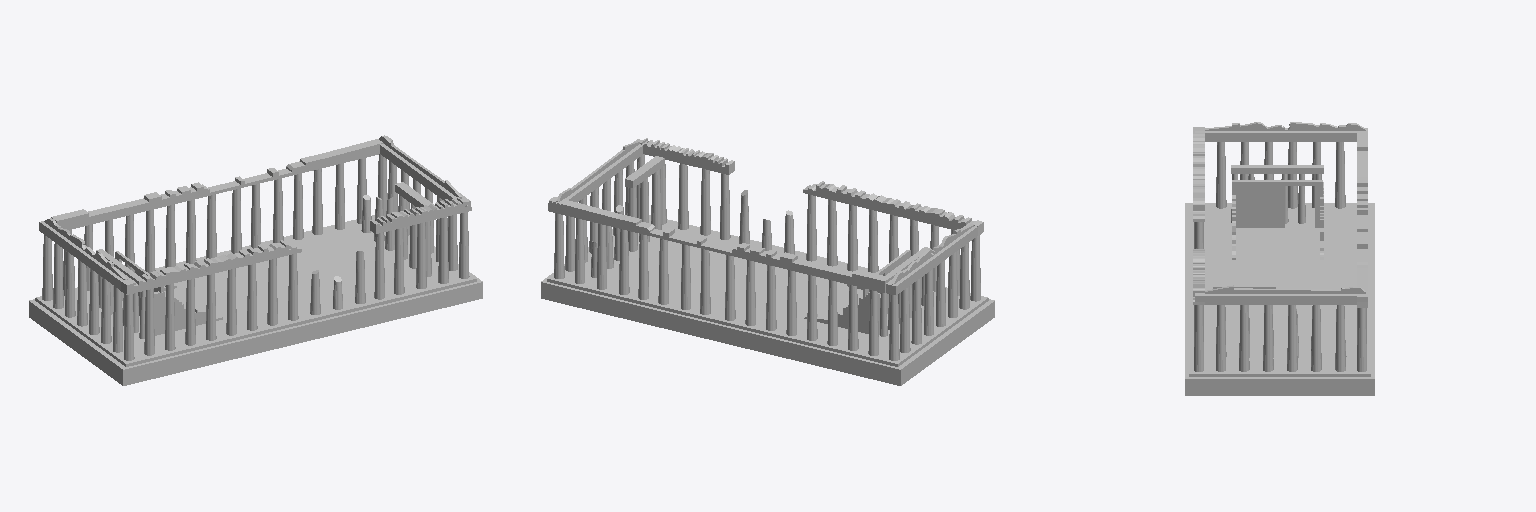
The model's file is acropolis.obj.
3 renders of one model, left to right at view 1: azimuth 30°, elevation 25°; view 2: azimuth 150°, elevation 25°; view 3: azimuth 270°, elevation 25°, orthographic.
Visible parts, largest first — view 1: acropolis; view 2: acropolis; view 3: acropolis.
Boxes of the visible parts, x1,y1,x2,y2 form: acropolis: [29, 135, 482, 385]; acropolis: [541, 138, 994, 385]; acropolis: [1185, 122, 1374, 395].
Size of the model in its own units: 811 by 223 by 369.